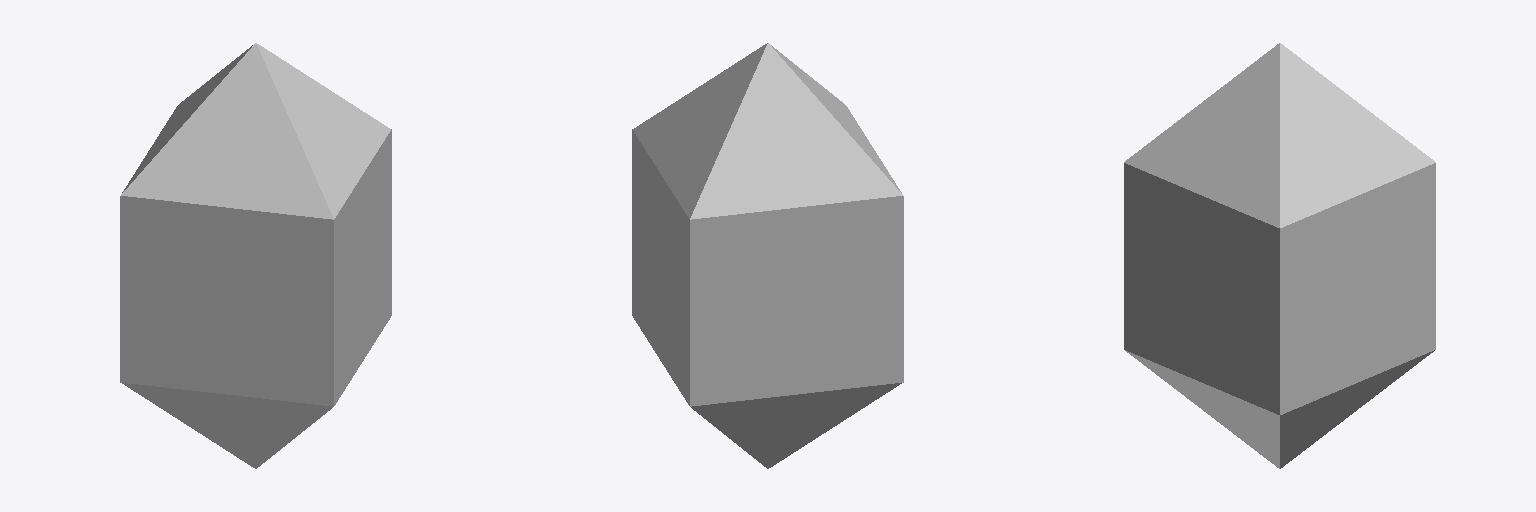
Rendered from gem.obj.
The picture shows the model from 3 angles: view 1: azimuth 30°, elevation 25°; view 2: azimuth 150°, elevation 25°; view 3: azimuth 270°, elevation 25°; orthographic projection.
Parts seen in each view (by area): view 1: Sphere; view 2: Sphere; view 3: Sphere.
Part boxes in pixels (bbox=[...]): Sphere: bbox=[120, 43, 391, 468]; Sphere: bbox=[632, 43, 903, 468]; Sphere: bbox=[1124, 43, 1435, 468].
Size of the model in its own units: 1.33 by 2 by 1.33.